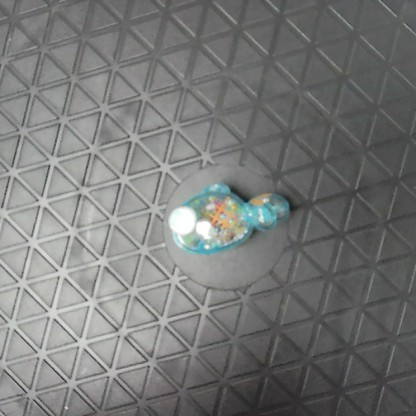bluefish: (166, 178, 291, 254)
